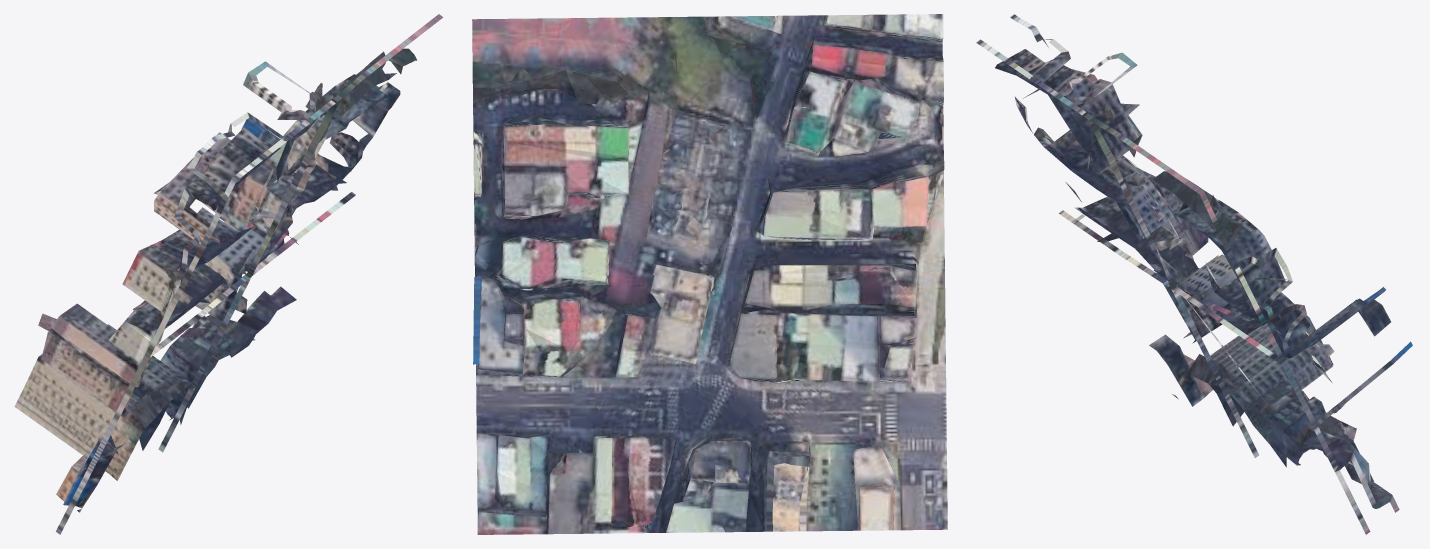
The picture shows the model from 3 angles, left to right: view 1: azimuth 30°, elevation 25°; view 2: azimuth 150°, elevation 25°; view 3: azimuth 270°, elevation 25°; orthographic projection. The views are drawn at different scales.
Size of the model in its own units: 152 by 149 by 144.
1 material, 1 textured.
